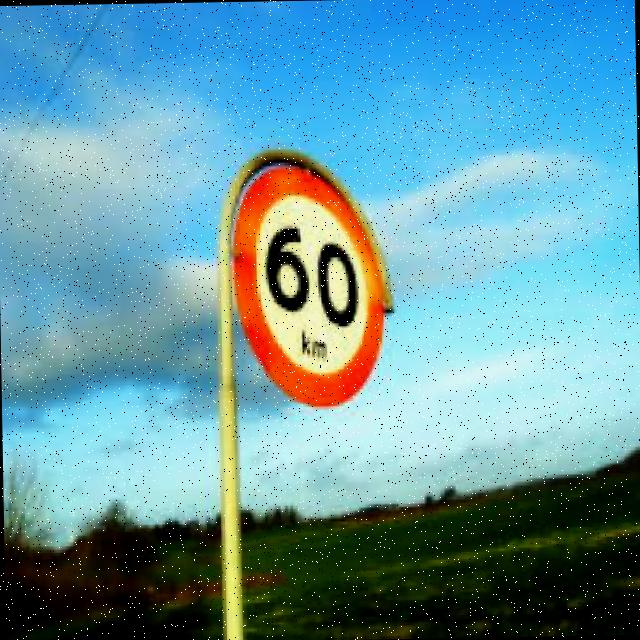Ograniczenie predkosci do 60: (230, 170, 392, 414)
